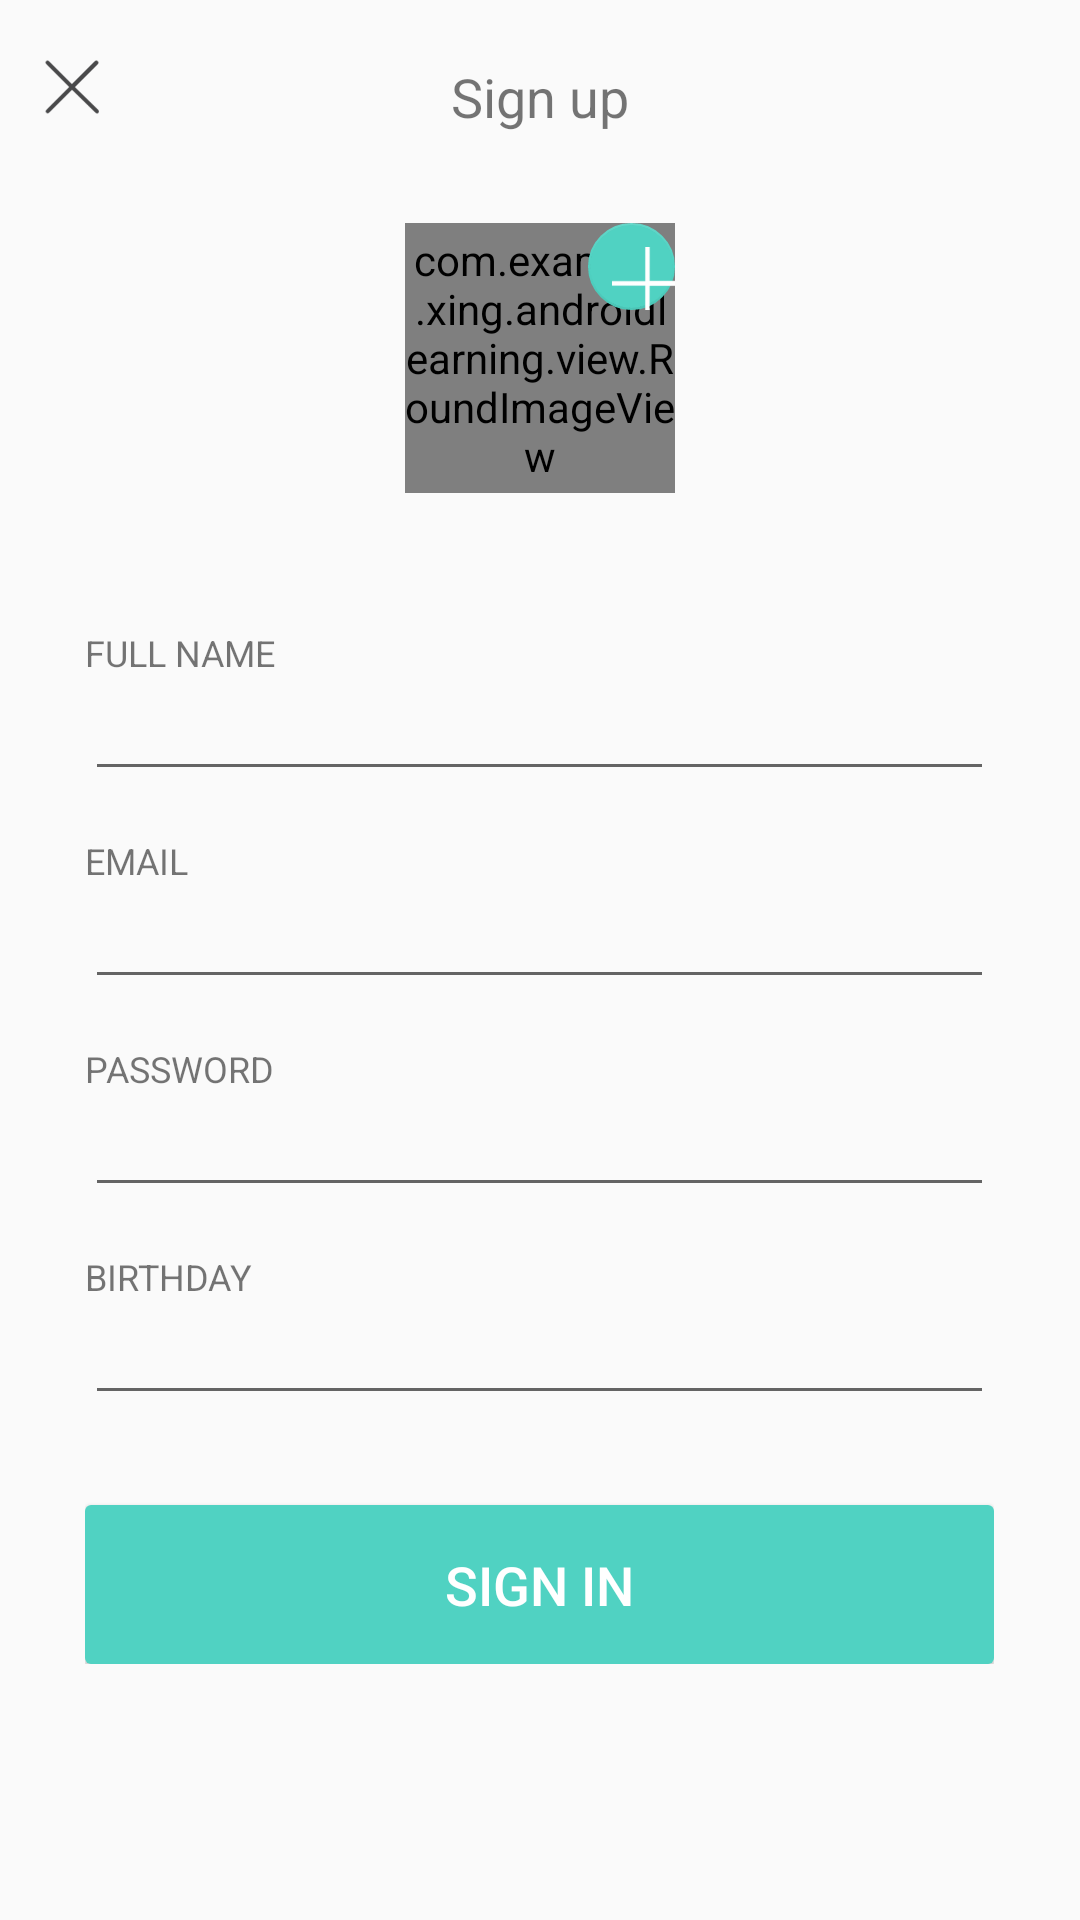

Named icons in this screenshot (1080x1920) and their centers, [x,y]:
close: [72,87]
plus: [631,266]
